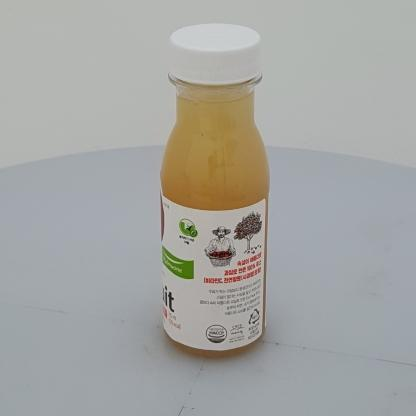--------------215ML: (160, 23, 270, 357)
